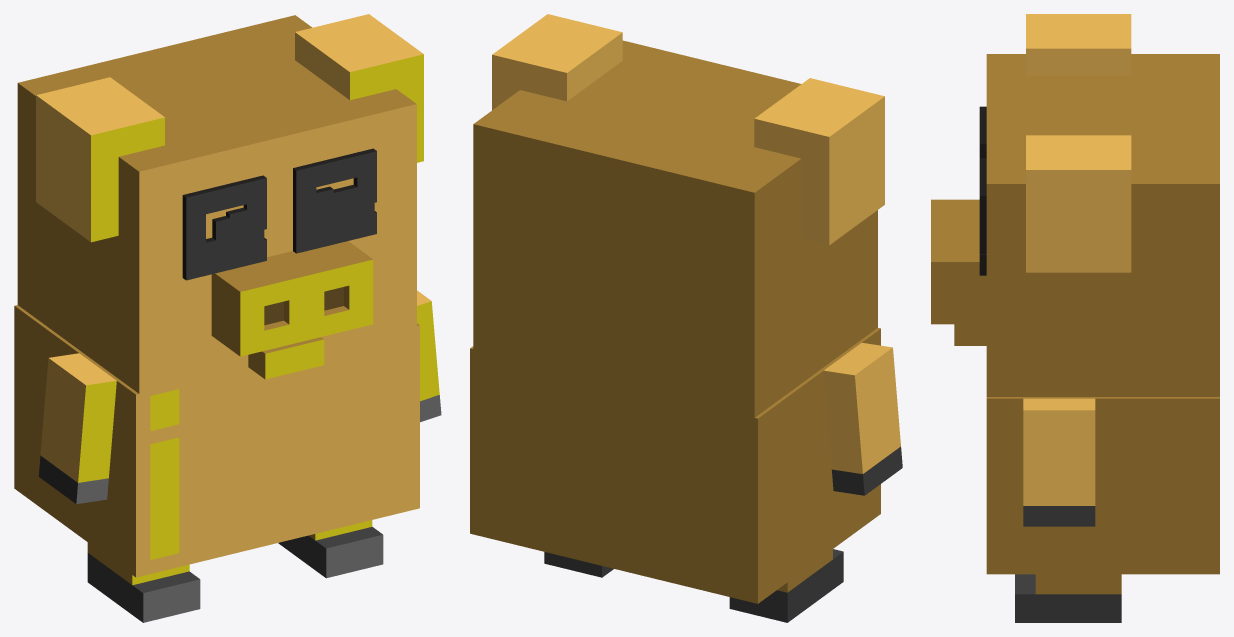
3 views of the same model, side by side, from view 1: azimuth 30°, elevation 25°; view 2: azimuth 150°, elevation 25°; view 3: azimuth 270°, elevation 25° (orthographic). The views are drawn at different scales.
Visible parts, largest first — view 1: Ch_39_Head, Ch_39, Ch_39_Hand_L, Ch_39_Eye_03_L, Ch_39_Leg_L, Ch_39_Eye_03_R, Ch_39_Leg_R, Ch_39_Eye_01, Ch_39_Hand_R, Ch_39_Eye_02; view 2: Ch_39_Head, Ch_39, Ch_39_Hand_L, Ch_39_Leg_L, Ch_39_Leg_R; view 3: Ch_39_Head, Ch_39, Ch_39_Hand_R, Ch_39_Leg_R, Ch_39_Eye_03_R, Ch_39_Eye_03_L.
Part boxes in pixels (<box>): Ch_39_Head: <box>17,14,423,393</box>; Ch_39: <box>14,305,419,577</box>; Ch_39_Hand_L: <box>38,353,116,504</box>; Ch_39_Eye_03_L: <box>182,175,266,280</box>; Ch_39_Leg_L: <box>87,542,200,622</box>; Ch_39_Eye_03_R: <box>293,148,376,253</box>; Ch_39_Leg_R: <box>278,520,383,578</box>; Ch_39_Eye_01: <box>226,186,333,252</box>; Ch_39_Hand_R: <box>417,290,441,422</box>; Ch_39_Eye_02: <box>206,201,374,253</box>; Ch_39_Head: <box>473,14,884,417</box>; Ch_39: <box>470,328,880,603</box>; Ch_39_Hand_L: <box>823,343,902,495</box>; Ch_39_Leg_L: <box>729,549,843,622</box>; Ch_39_Leg_R: <box>544,552,613,577</box>; Ch_39_Head: <box>931,14,1219,396</box>; Ch_39: <box>986,397,1219,574</box>; Ch_39_Hand_R: <box>1023,398,1095,526</box>; Ch_39_Leg_R: <box>1015,574,1121,622</box>; Ch_39_Eye_03_R: <box>979,158,986,275</box>; Ch_39_Eye_03_L: <box>979,106,986,158</box>.
Bounding box in the file's own units: 7.57 × 9.8 × 5.4.
